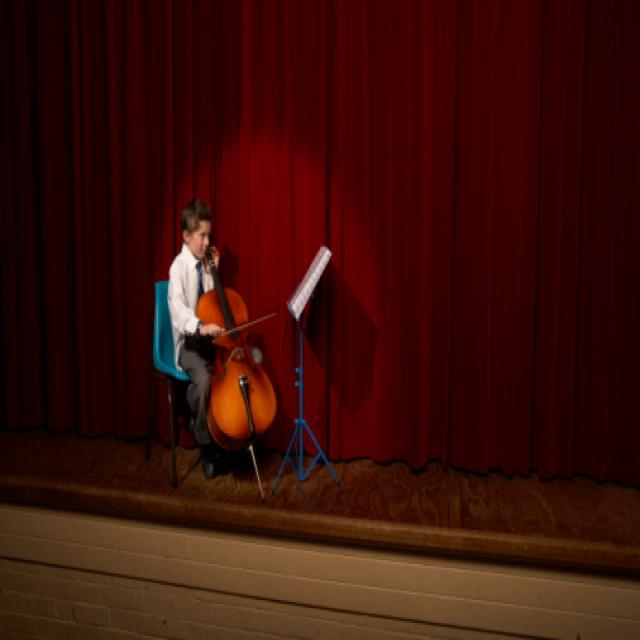cello: (194, 236, 278, 459)
